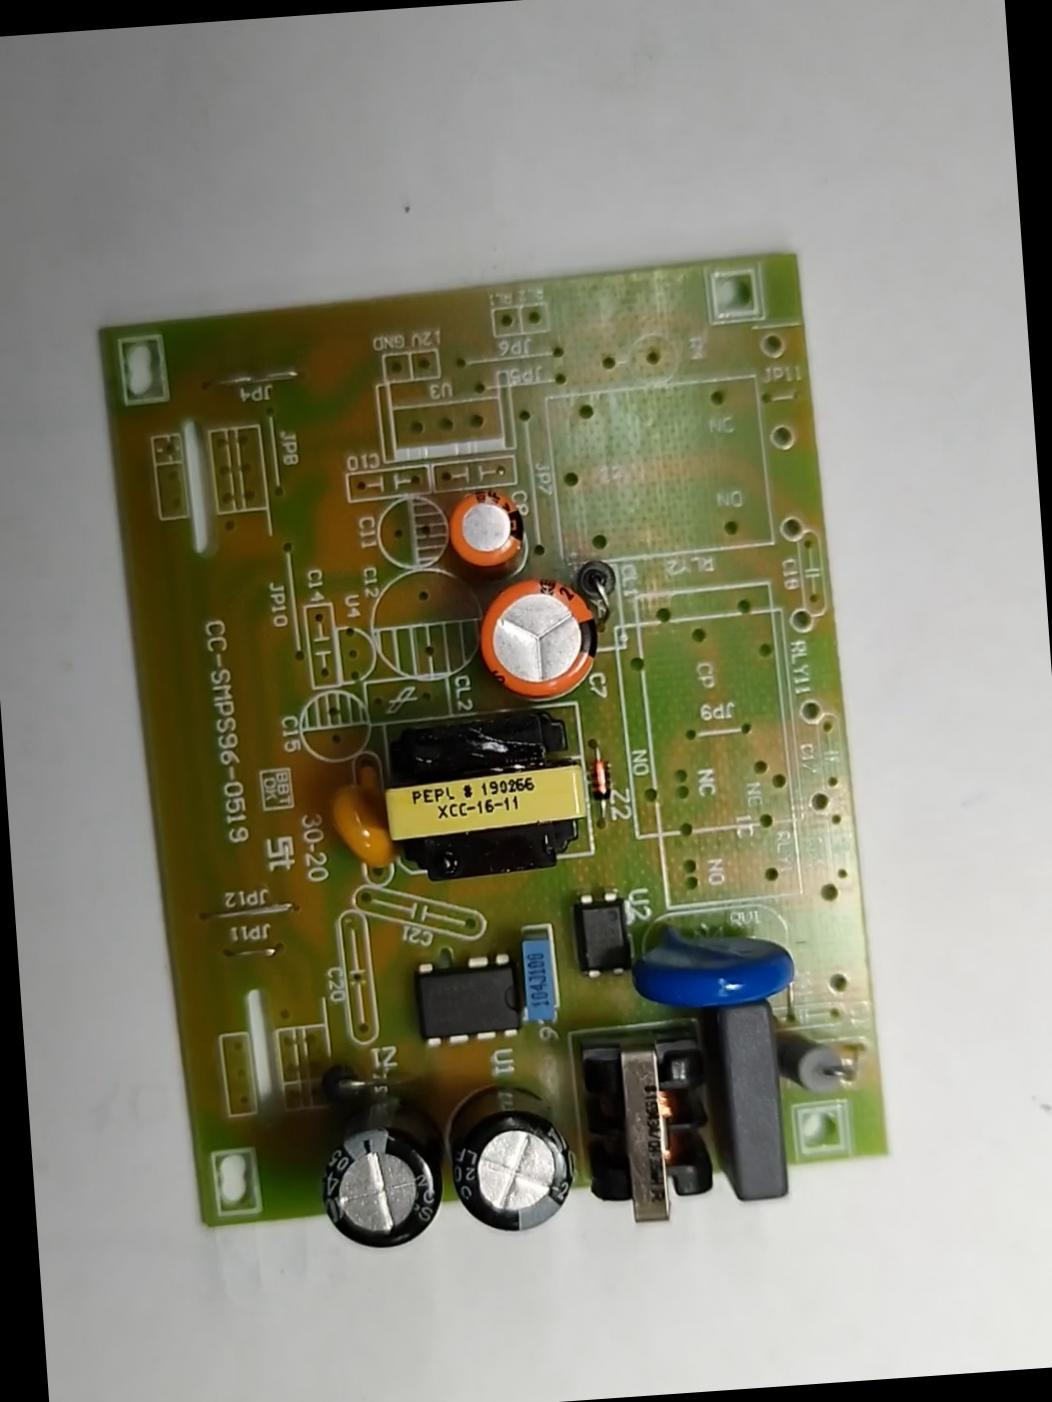Cap1: (471, 567, 599, 703)
Cap2: (442, 483, 527, 570)
Cap3: (442, 1075, 580, 1236)
Cap4: (316, 1095, 444, 1254)
MOSFET: (410, 949, 520, 1047)
Mov: (629, 910, 799, 1009)
Resistor: (776, 1026, 854, 1094)
Transformer: (374, 710, 595, 885), (582, 1029, 719, 1230)
